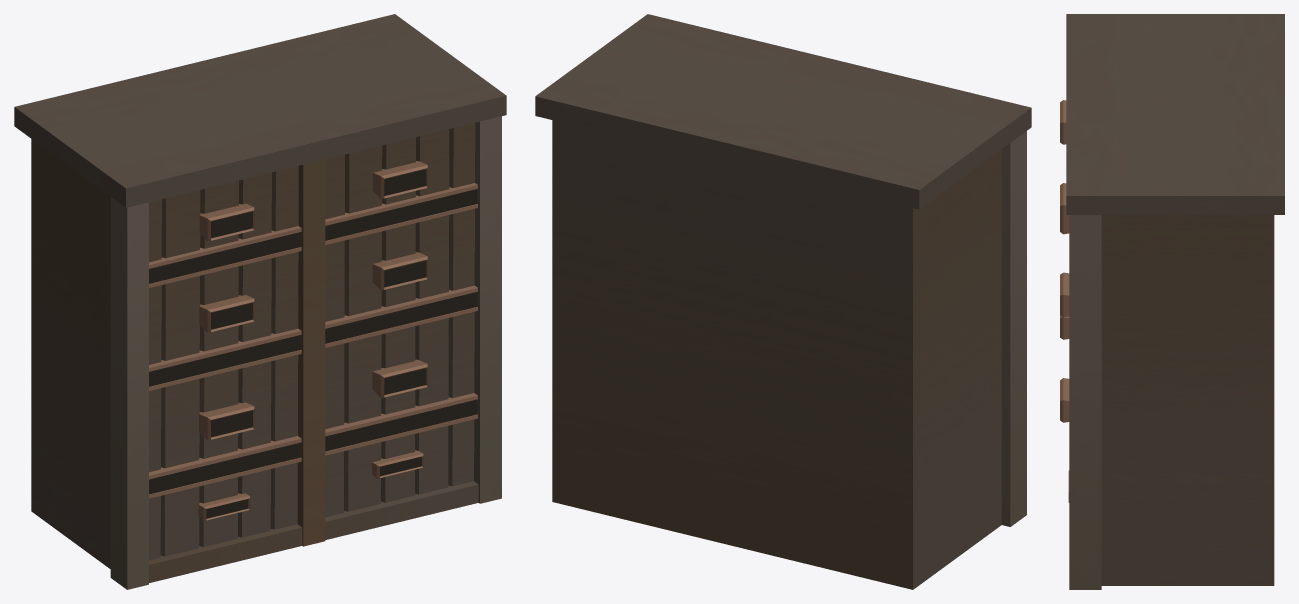
The model's file is Cupboard_6.fbx.
3 renders of one model, left to right at view 1: azimuth 30°, elevation 25°; view 2: azimuth 150°, elevation 25°; view 3: azimuth 270°, elevation 25°, orthographic. The views are drawn at different scales.
Parts seen in each view (by area): view 1: pCube799; view 2: pCube799; view 3: pCube799.
Part boxes in pixels (<box>): pCube799: <box>14,14,506,589</box>; pCube799: <box>535,14,1031,589</box>; pCube799: <box>1060,14,1284,589</box>.
Bounding box in the file's own units: 135 × 137 × 70.36.
